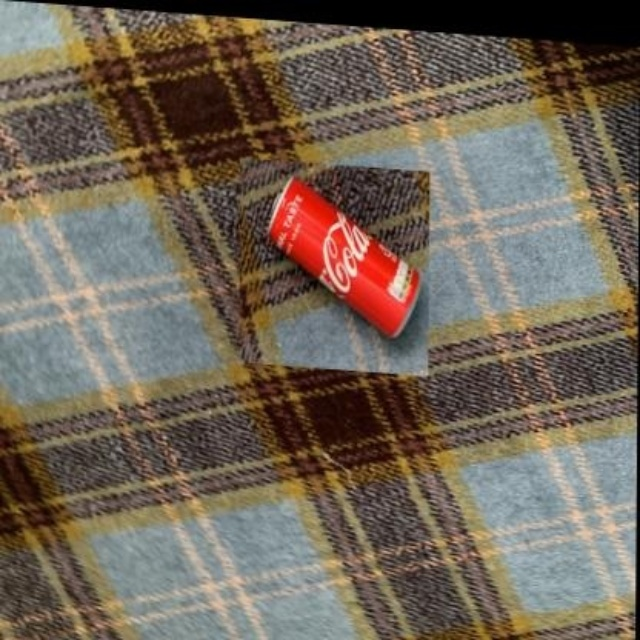trash: (269, 177, 418, 337)
